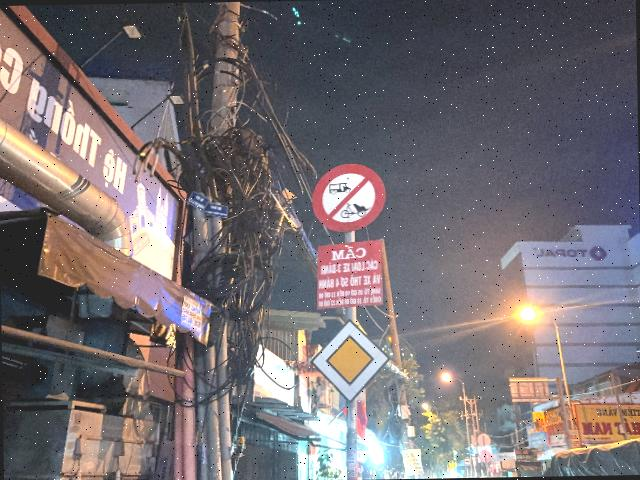bat-dau-duong-uu-tien: (310, 318, 392, 404)
cam-xe-3-banh-xe-tho-so-4-banh: (310, 161, 386, 232)
